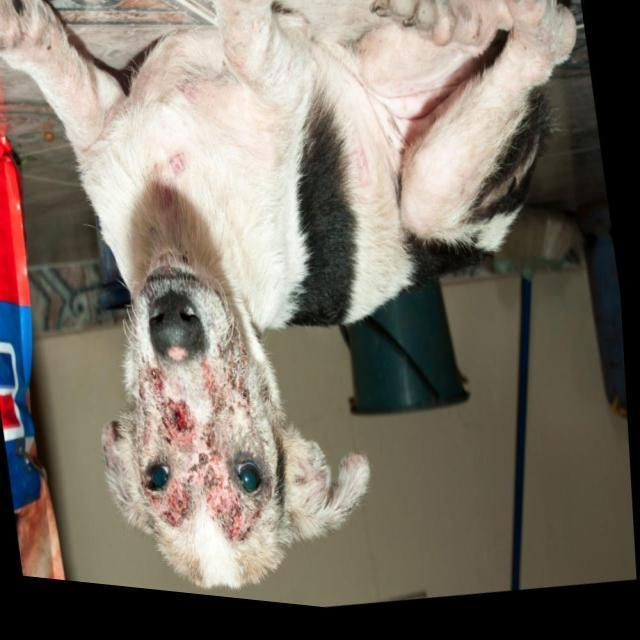mange: (136, 343, 279, 551)
